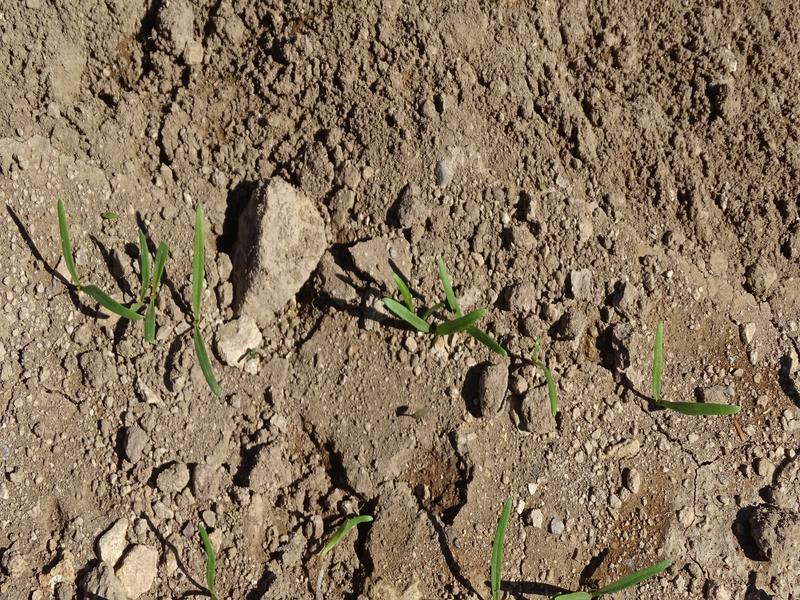Espinaca: (81, 211, 224, 393), (380, 270, 511, 354), (649, 326, 742, 420), (562, 555, 678, 600), (487, 499, 511, 598), (200, 520, 218, 587)
